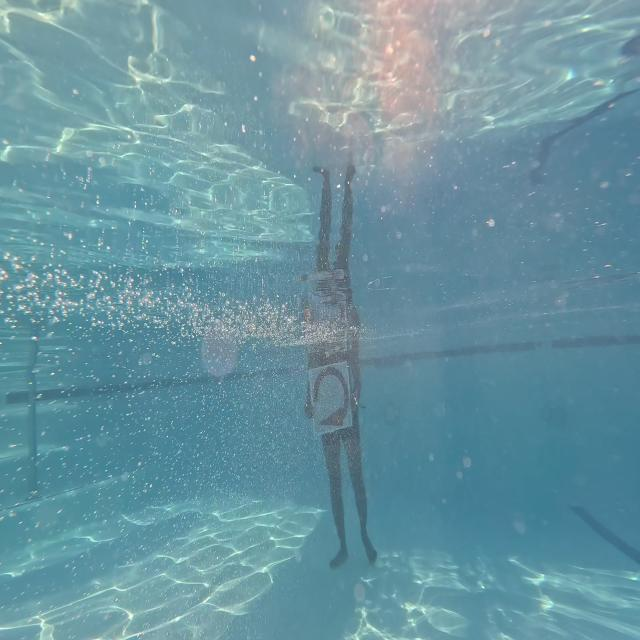red_side: (310, 362, 351, 432)
